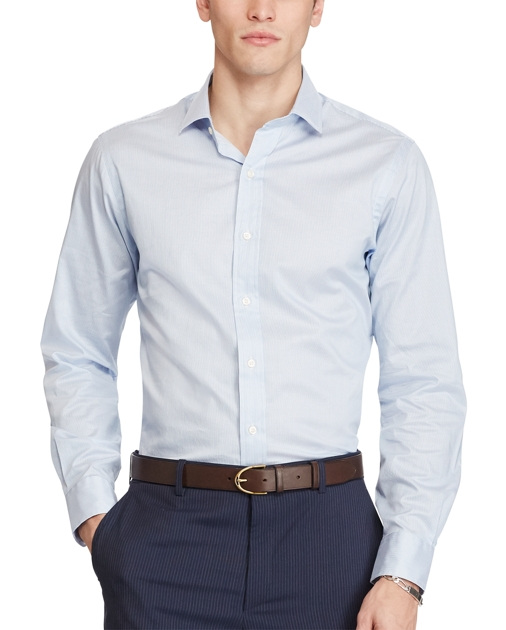F_belt: (112, 433, 370, 504)
F_shirt: (26, 71, 457, 582)
